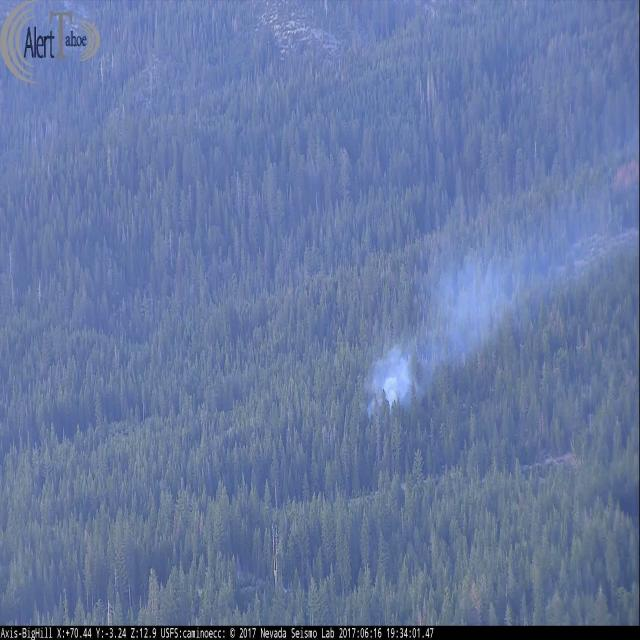smoke: (367, 123, 640, 420)
